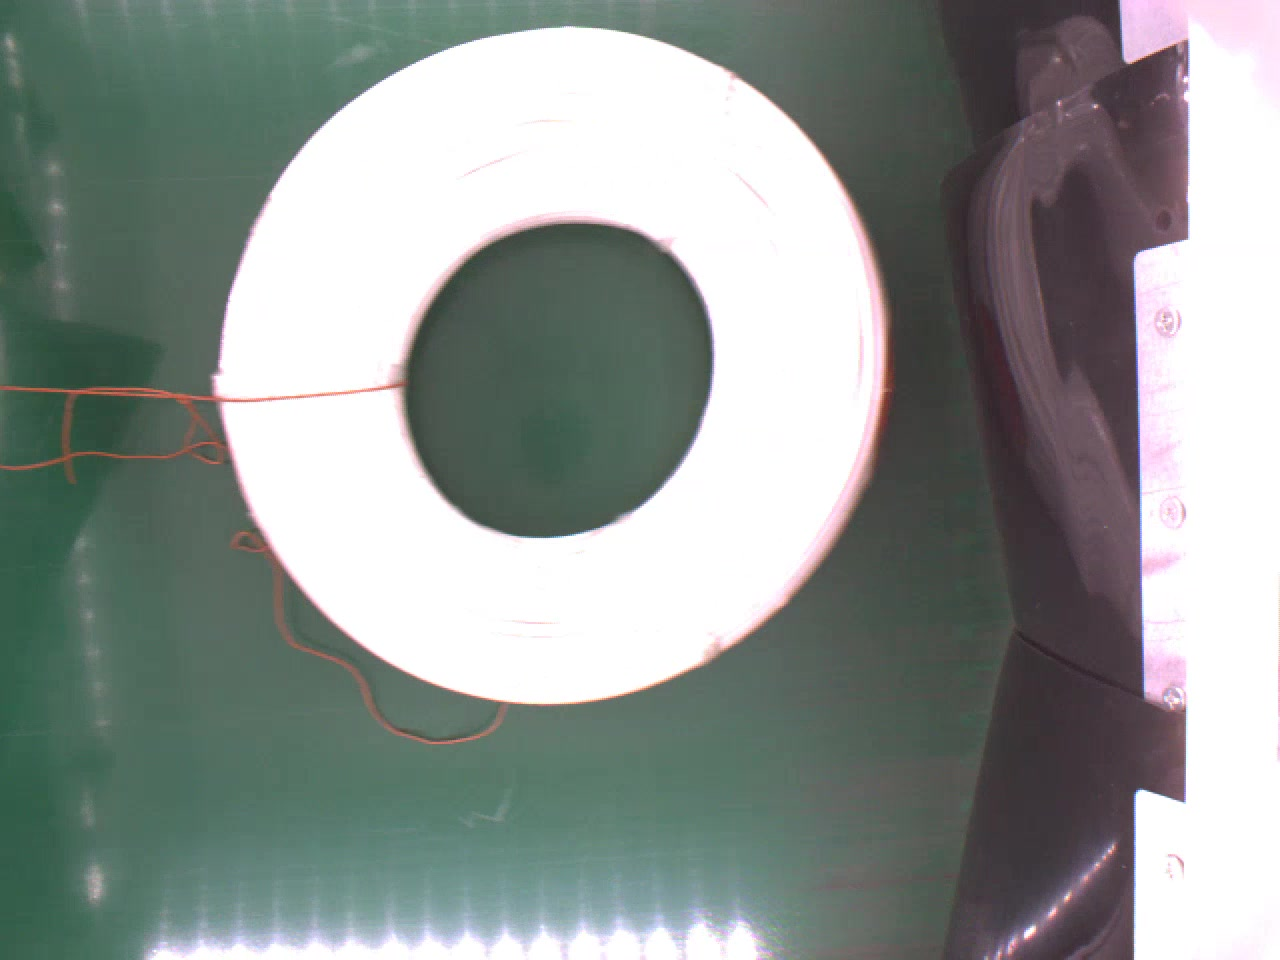white: (210, 25, 891, 704)
